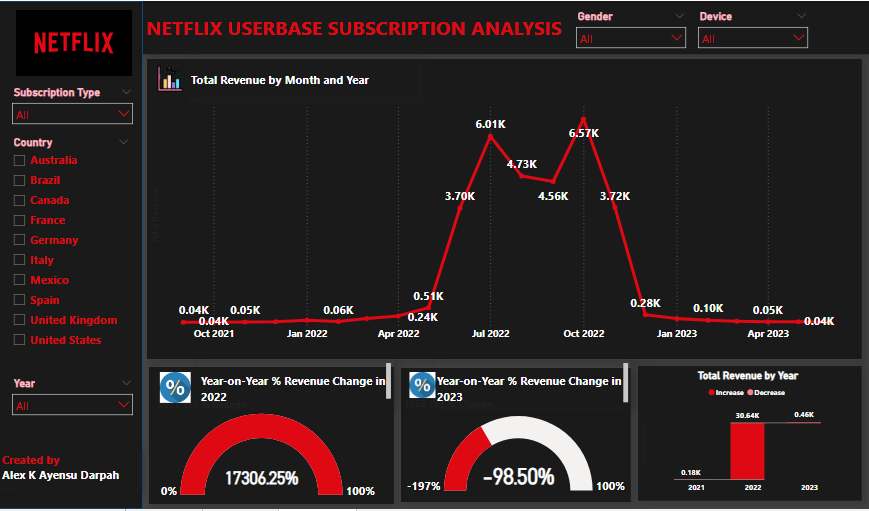

This screenshot's page, from the dashboard's own definition file:
{"tool":"powerbi","page":{"name":"Page 3","canvas":[1440,840],"ordinal":2},"visuals":[{"type":"shape","box":[0,0,238.1,840],"z":0},{"type":"textbox","box":[237.9,0,1202.1,87.6],"z":1000},{"type":"image","box":[0,9.9,248,119.1],"z":2000},{"type":"slicer","fields":{"Values":["NetflixUserbase.Gender"]},"box":[944.2,9.9,201.7,82.7],"z":3000},{"type":"slicer","fields":{"Values":["NetflixUserbase.Device"]},"box":[1145.9,9.9,201.7,82.7],"z":4000},{"type":"slicer","fields":{"Values":["NetflixUserbase.Subscription Type"]},"box":[11.6,135.6,219.9,82.7],"z":5000},{"type":"slicer","fields":{"Values":["NetflixUserbase.Country"]},"box":[11.6,218.3,215,398.5],"z":6000},{"type":"shape","box":[245.5,96.1,1182.3,497],"z":7000},{"type":"lineChart","fields":{"Y":["NetflixUserbase.Total Revenue"],"Category":["NetflixUserbase.Join Date.Variation.Date Hierarchy.Year","NetflixUserbase.Join Date.Variation.Date Hierarchy.Month"]},"box":[244.7,158.7,1169.1,411.7],"z":8000},{"type":"textbox","box":[312.5,95.9,382,64.5],"z":9000},{"type":"image","box":[256.3,100.9,52.9,54.6],"z":10000},{"type":"textbox","box":[0,740.8,231.5,62.8],"z":11000},{"type":"shape","box":[664.7,606.9,380.3,221.6],"z":12000},{"type":"gauge","fields":{"Y":["NetflixUserbase.2023 YoY % Change"]},"box":[664.7,654.8,380.3,172],"z":13000},{"type":"textbox","box":[719.3,593.6,325.7,76.1],"z":14000},{"type":"image","box":[664.7,608.5,71.1,52.9],"z":15000},{"type":"shape","box":[248,605.2,405.1,226.5],"z":16000},{"type":"gauge","fields":{"Y":["NetflixUserbase.2022 YoY % Change"]},"box":[258,656.5,373.7,172],"z":17000},{"type":"textbox","box":[329.1,593.6,324.1,72.8],"z":18000},{"type":"image","box":[253,608.5,76.1,61.2],"z":19000},{"type":"slicer","fields":{"Values":["NetflixUserbase.Join Date.Variation.Date Hierarchy.Year"]},"box":[11.6,616.8,219.9,100.9],"z":20000},{"type":"shape","box":[1056.6,603.5,370.4,223.2],"z":21000},{"type":"waterfallChart","fields":{"Category":["NetflixUserbase.Join Date.Variation.Date Hierarchy.Year"],"Y":["NetflixUserbase.Total Revenue"]},"box":[1056.6,608.5,363.8,213.3],"z":22000}]}

Visuals, with their boxes in screenshot pixels (x1, y1, x2, y2), scaled from the page's 1440x840 canvas onto the 869x511 screenshot:
shape: 0:0:144:510
textbox: 144:0:868:53
image: 0:6:150:78
slicer - NetflixUserbase.Gender: 570:6:692:56
slicer - NetflixUserbase.Device: 692:6:813:56
slicer - NetflixUserbase.Subscription Type: 7:82:140:133
slicer - NetflixUserbase.Country: 7:133:137:375
shape: 148:58:862:361
lineChart - NetflixUserbase.Total Revenue x NetflixUserbase.Join Date.Variation.Date Hierarchy.Year: 148:97:853:347
textbox: 189:58:419:98
image: 155:61:187:95
textbox: 0:451:140:489
shape: 401:369:631:504
gauge - NetflixUserbase.2023 YoY % Change: 401:398:631:503
textbox: 434:361:631:407
image: 401:370:444:402
shape: 150:368:394:506
gauge - NetflixUserbase.2022 YoY % Change: 156:399:381:504
textbox: 199:361:394:405
image: 153:370:199:407
slicer - NetflixUserbase.Join Date.Variation.Date Hierarchy.Year: 7:375:140:437
shape: 638:367:861:503
waterfallChart - NetflixUserbase.Join Date.Variation.Date Hierarchy.Year x NetflixUserbase.Total Revenue: 638:370:857:500
